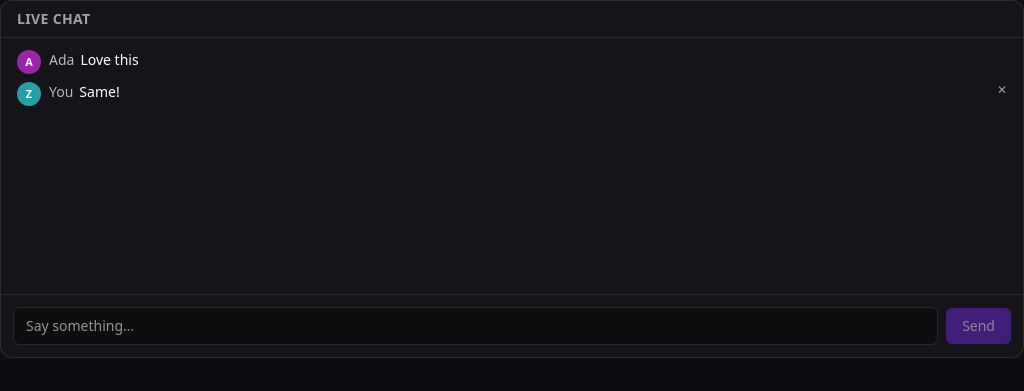
Test: LiveChat › keeps the draft and shows the server's message when sending fails
This screenshot has width=1024, height=391.
Type "hello" into the field named "Comment".
click(476, 326); type("hello")  # box [13,307,938,345]
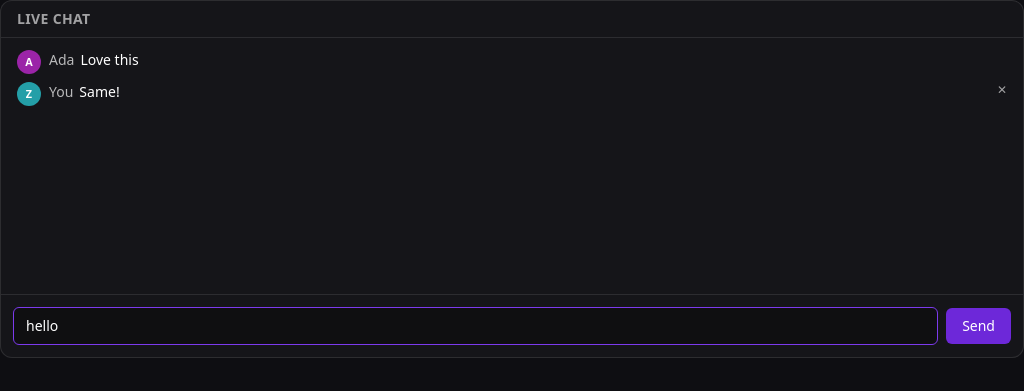
Click the button "Send".
click(979, 326)  # box [946,308,1011,344]
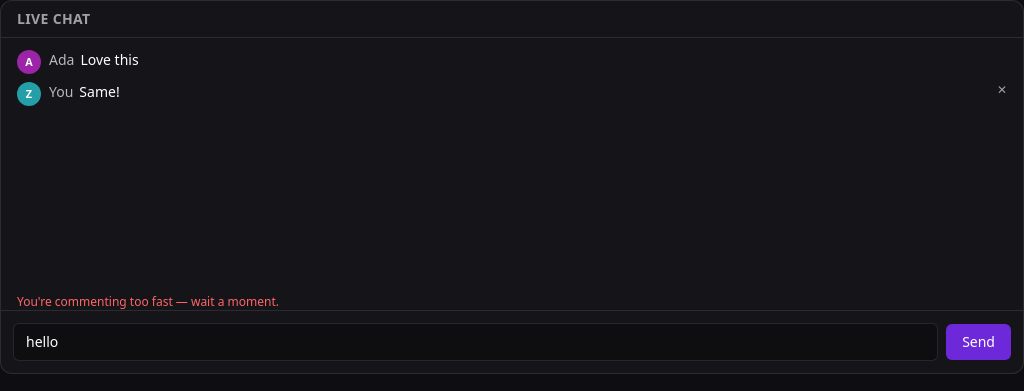
Now the text "You're commenting too fast — wait a moment." is shown, box [17,293,279,310]
